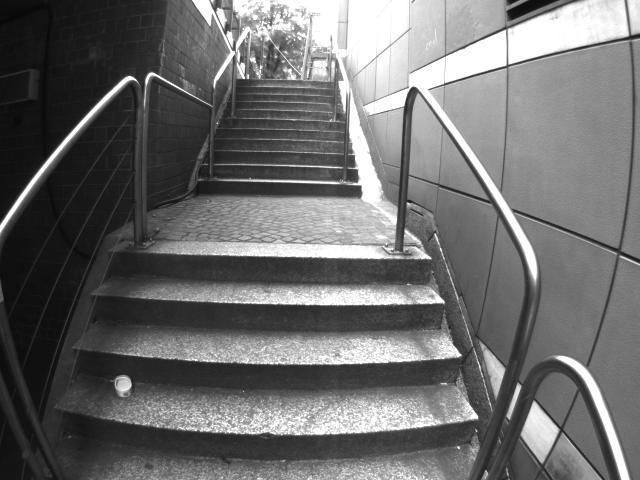Escaleras: (57, 236, 622, 479), (205, 78, 372, 191)
